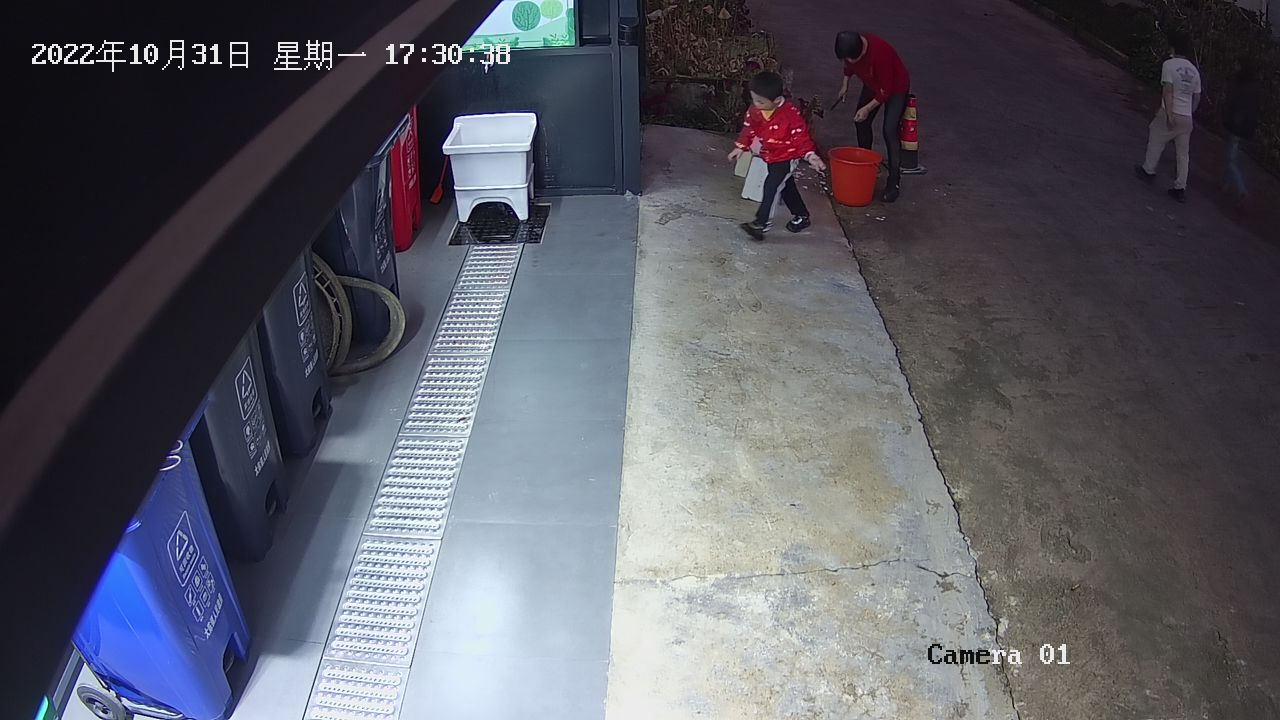person: (724, 69, 828, 242), (832, 27, 911, 206)
youtong: (828, 143, 882, 210)
